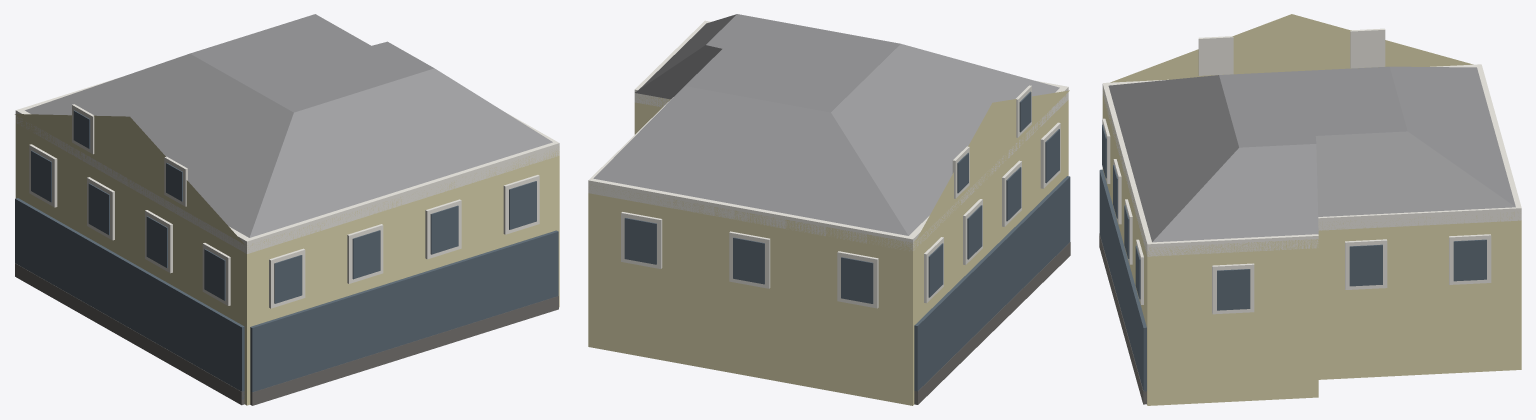
Rendered from s37_gis_248103_820706_detail.glb.
3 renders of one model, left to right at view 1: azimuth 30°, elevation 25°; view 2: azimuth 150°, elevation 25°; view 3: azimuth 270°, elevation 25°, orthographic. The views are drawn at different scales.
Visible parts, largest first — view 1: roof, mass, band_3_1.55, band_4_1.55, cornice, gable, band_3_0.25, band_4_0.25, win_3_0.12_4.3, win_3_0.62_4.3, win_3_0.38_4.3, win_3_0.88_4.3 (+14 smaller); view 2: roof, mass, band_4_1.55, cornice, gable, band_4_0.25, win_5_0.83_4.3, win_5_0.17_4.3, win_5_0.50_4.3, wtrim_5_0.83_4.3, wtrim_5_0.50_4.3, wtrim_5_0.17_4.3 (+8 smaller); view 3: roof, mass, gable, cornice, band_3_1.55, wtrim_4_0.70_6.9, wtrim_4_0.30_6.9, win_2_0.50_4.3, win_0_0.25_4.3, win_0_0.75_4.3, wtrim_2_0.50_4.3, wtrim_0_0.75_4.3 (+2 smaller).
Boxes of the visible parts, x1,y1,x2,y2 form: roof: [25, 14, 552, 237]; mass: [15, 115, 559, 405]; band_3_1.55: [250, 230, 558, 393]; band_4_1.55: [15, 198, 244, 399]; cornice: [15, 77, 559, 253]; gable: [15, 114, 244, 244]; band_3_0.25: [250, 296, 558, 405]; band_4_0.25: [15, 263, 244, 405]; win_3_0.12_4.3: [274, 255, 302, 303]; win_3_0.62_4.3: [430, 205, 458, 254]; win_3_0.38_4.3: [352, 230, 380, 279]; win_3_0.88_4.3: [509, 181, 536, 229]; roof: [593, 14, 1059, 235]; mass: [588, 93, 1068, 405]; band_4_1.55: [914, 176, 1070, 392]; cornice: [588, 20, 1068, 251]; gable: [915, 90, 1069, 241]; band_4_0.25: [914, 242, 1070, 404]; win_5_0.83_4.3: [841, 257, 873, 303]; win_5_0.17_4.3: [624, 218, 656, 264]; win_5_0.50_4.3: [733, 237, 764, 284]; wtrim_5_0.83_4.3: [837, 251, 878, 308]; wtrim_5_0.50_4.3: [729, 231, 770, 288]; wtrim_5_0.17_4.3: [621, 212, 662, 268]; roof: [1108, 66, 1515, 242]; mass: [1102, 89, 1521, 405]; gable: [1110, 14, 1473, 82]; cornice: [1102, 64, 1521, 256]; band_3_1.55: [1099, 169, 1146, 399]; wtrim_4_0.70_6.9: [1198, 36, 1233, 75]; wtrim_4_0.30_6.9: [1350, 28, 1385, 68]; win_2_0.50_4.3: [1217, 269, 1250, 310]; win_0_0.25_4.3: [1349, 244, 1382, 286]; win_0_0.75_4.3: [1453, 239, 1486, 281]; wtrim_2_0.50_4.3: [1212, 263, 1254, 314]; wtrim_0_0.75_4.3: [1449, 234, 1491, 284].
Bounding box in the file's own units: 14.73 × 8.35 × 14.5.
